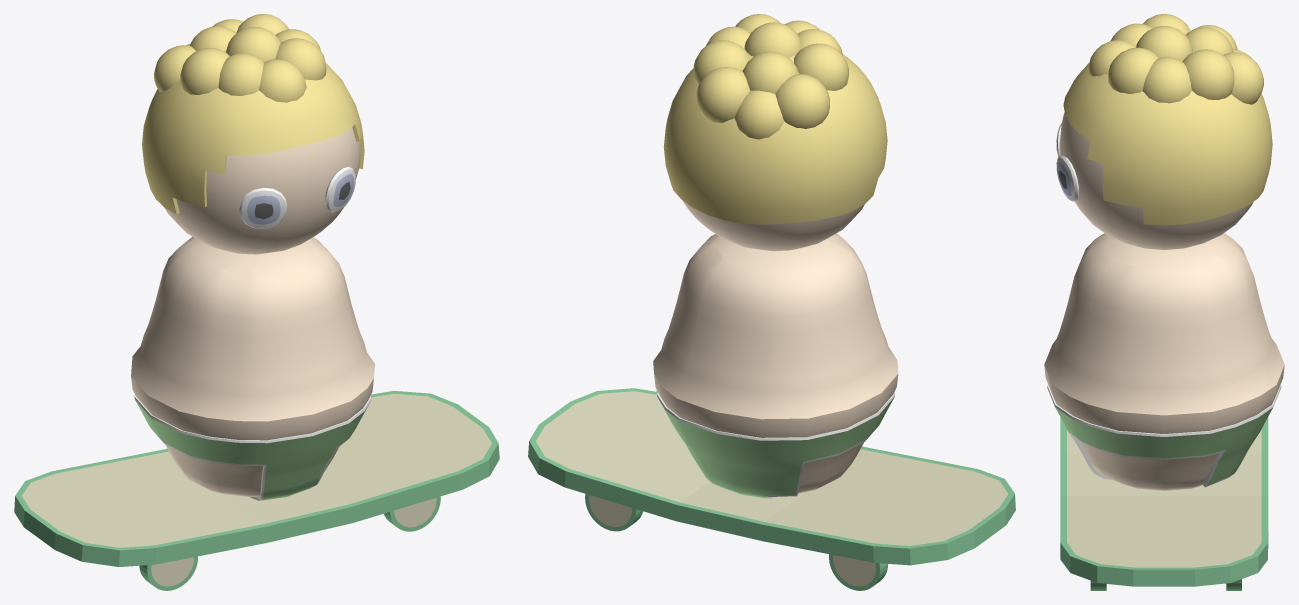
The model's file is kaykay.fbx.
3 renders of one model, left to right at view 1: azimuth 30°, elevation 25°; view 2: azimuth 150°, elevation 25°; view 3: azimuth 270°, elevation 25°, orthographic.
Visible parts, largest first — view 1: Cube.038; view 2: Cube.038; view 3: Cube.038.
Part boxes in pixels (box(x1,y1,x2,y2)): Cube.038: box(14, 14, 499, 590); Cube.038: box(528, 14, 1015, 590); Cube.038: box(1044, 14, 1284, 590).
Size of the model in its own units: 380 by 421 by 183.
